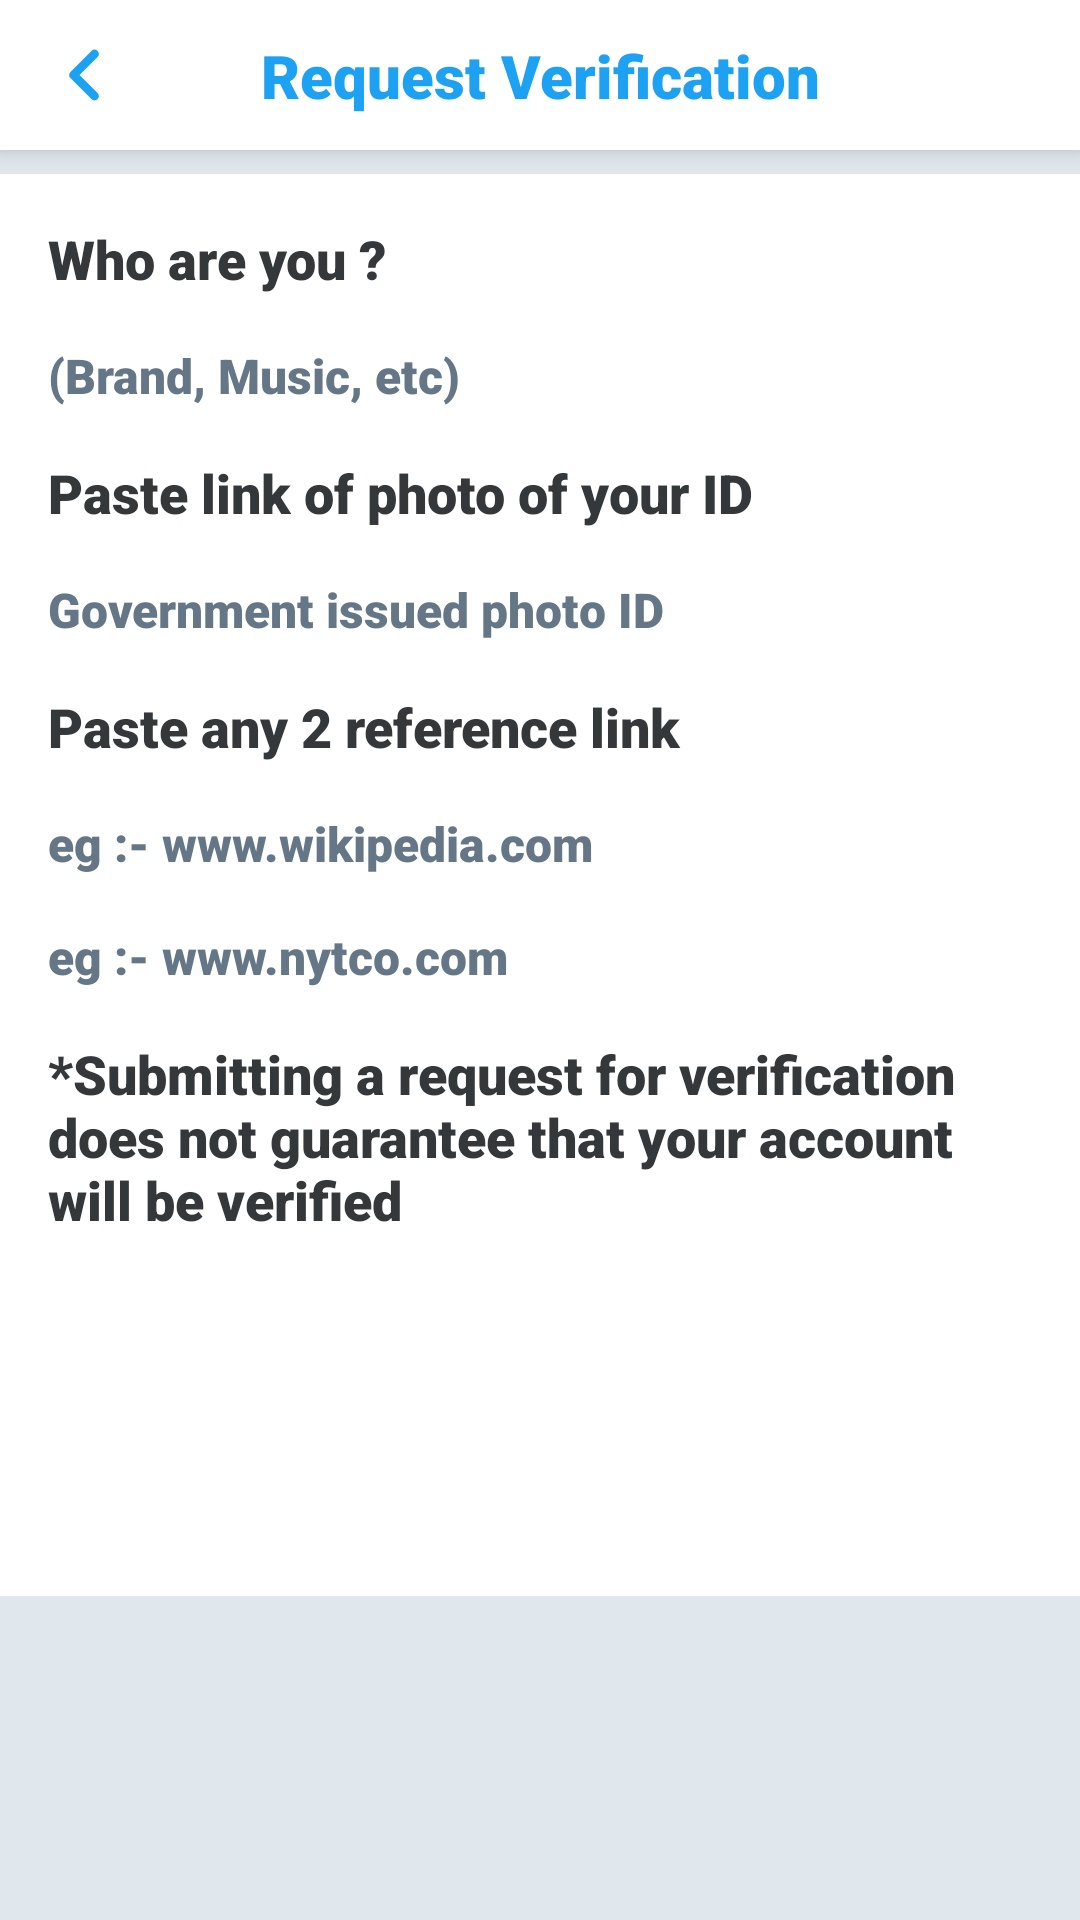

Where to tap for icons on this 1080 × 1920 app screen, as [x,y]:
back: [84,75]
